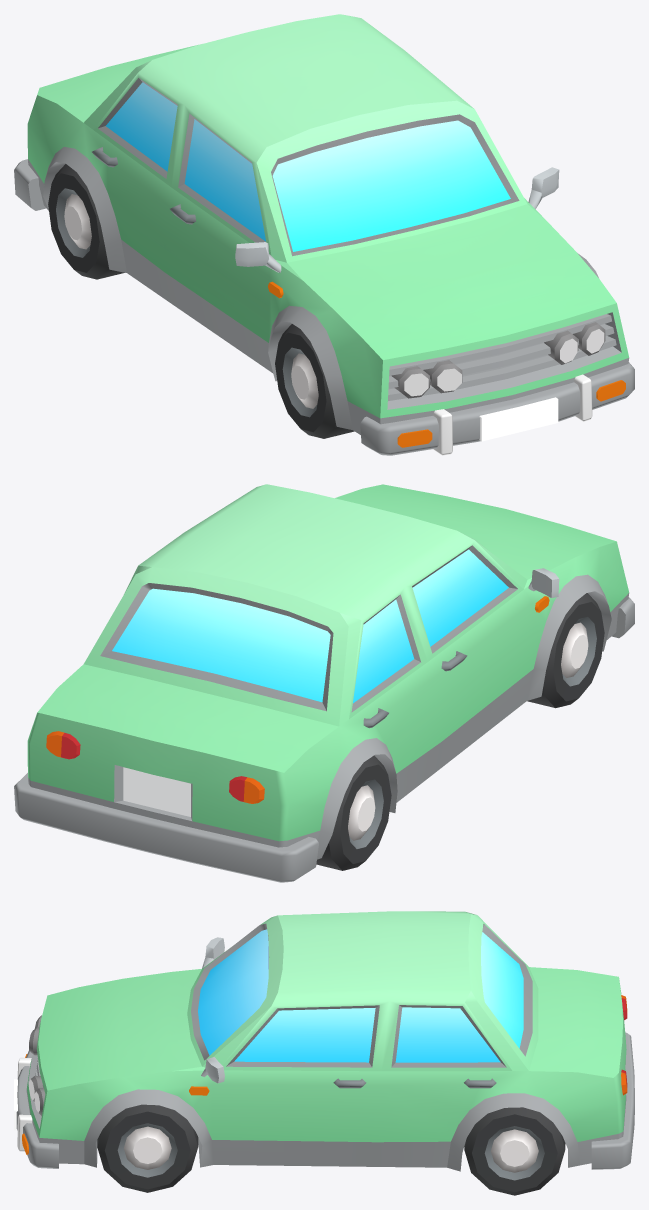
Rendered from city2-car-26.glb.
The picture shows the model from 3 angles, top to bottom: view 1: azimuth 30°, elevation 25°; view 2: azimuth 150°, elevation 25°; view 3: azimuth 270°, elevation 25°; orthographic projection. The views are drawn at different scales.
Parts seen in each view (by area): view 1: Car_26, Wheel_141, Wheel_142; view 2: Car_26, Wheel_142, Wheel_141; view 3: Car_26, Wheel_143, Wheel_144.
Part boxes in pixels (x1,y1,x2,y2): Car_26: [14, 14, 634, 455]; Wheel_141: [275, 324, 354, 438]; Wheel_142: [48, 164, 124, 279]; Car_26: [14, 484, 634, 882]; Wheel_142: [316, 755, 391, 870]; Wheel_141: [527, 593, 604, 708]; Car_26: [14, 911, 634, 1171]; Wheel_143: [97, 1104, 198, 1192]; Wheel_144: [464, 1107, 565, 1195].
Bounding box in the file's own units: 2.62 × 1.8 × 5.22.
Materials: 2 (2 with a texture image).
